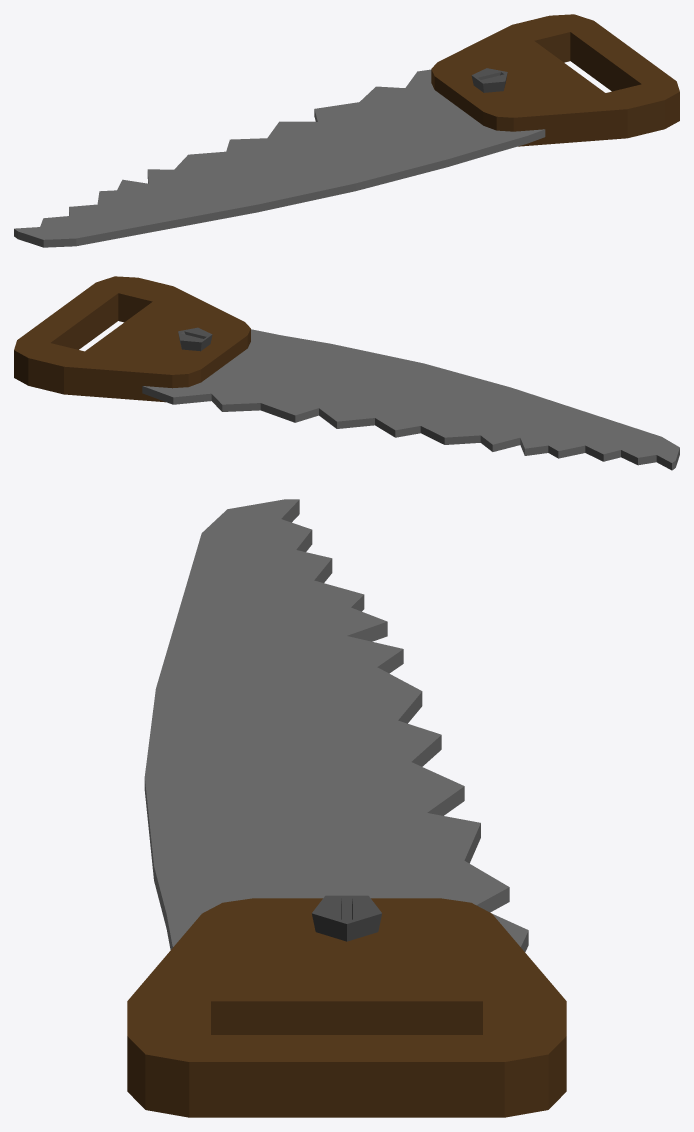
Rendered from F_Saw.fbx.
3 renders of one model, top to bottom at view 1: azimuth 30°, elevation 25°; view 2: azimuth 150°, elevation 25°; view 3: azimuth 270°, elevation 25°, orthographic. The views are drawn at different scales.
Visible parts, largest first — view 1: F_Saw; view 2: F_Saw; view 3: F_Saw.
Boxes of the visible parts, x1=… form: F_Saw: x1=14, y1=14, x2=679, y2=247; F_Saw: x1=14, y1=276, x2=679, y2=470; F_Saw: x1=127, y1=499, x2=566, y2=1117.
Bounding box in the file's own units: 109 × 8.15 × 34.46.
